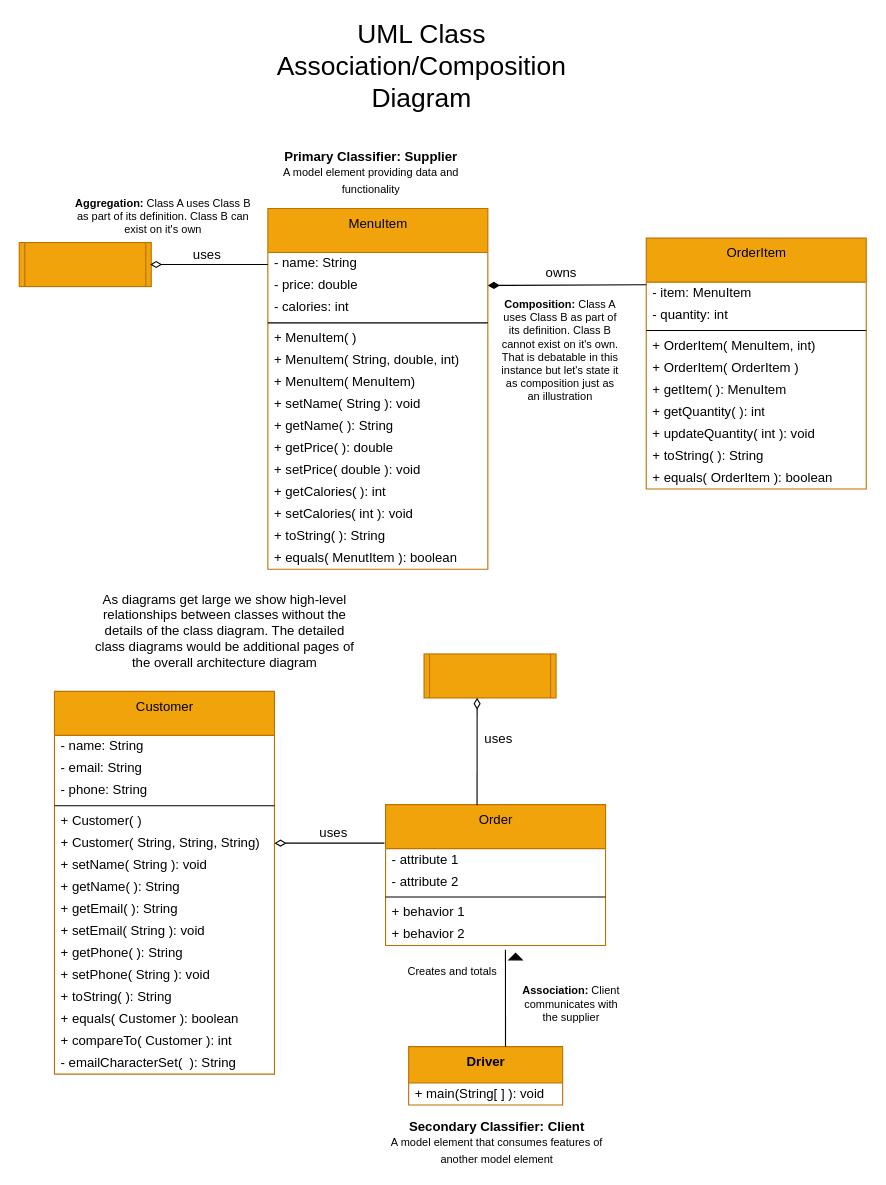
Some shapes in this 886 by 1185 pixel diagram are drawn without their labels. Each missing label, with the centre of its shape:
Date: the point at 489,675
String: the point at 84,264
